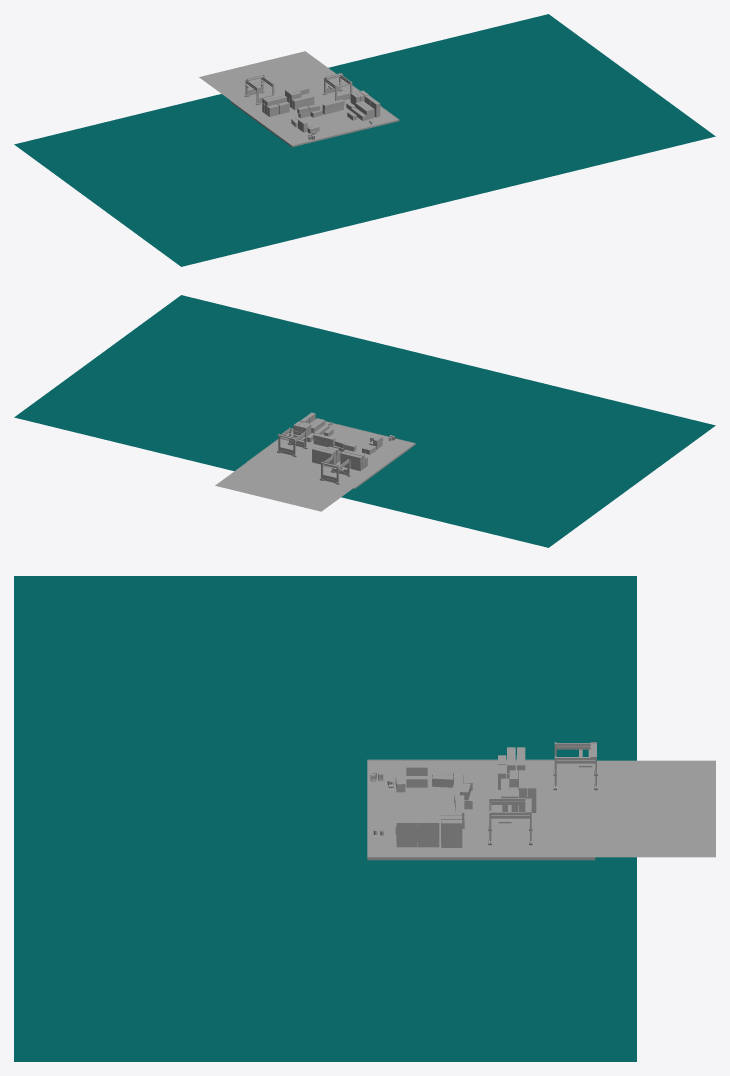
The model's file is Dock blockout.fbx.
3 renders of one model, top to bottom at view 1: azimuth 30°, elevation 25°; view 2: azimuth 150°, elevation 25°; view 3: azimuth 270°, elevation 25°, orthographic. The views are drawn at different scales.
Visible parts, largest first — view 1: Water_plane, pPlane1; view 2: Water_plane, pPlane1; view 3: Water_plane, pPlane1, pCube102.
Part boxes in pixels (<box>): Water_plane: <box>14,14,715,266</box>; pPlane1: <box>199,51,397,145</box>; Water_plane: <box>14,295,715,547</box>; pPlane1: <box>215,421,413,511</box>; Water_plane: <box>14,576,636,1061</box>; pPlane1: <box>368,760,715,857</box>; pCube102: <box>367,857,595,860</box>.
Bounding box in the file's own units: 331 × 11.55 × 202.
